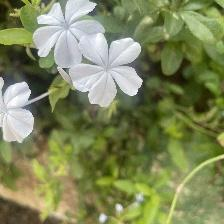chitrak: (72, 35, 158, 102), (32, 1, 106, 70), (1, 78, 38, 145)
